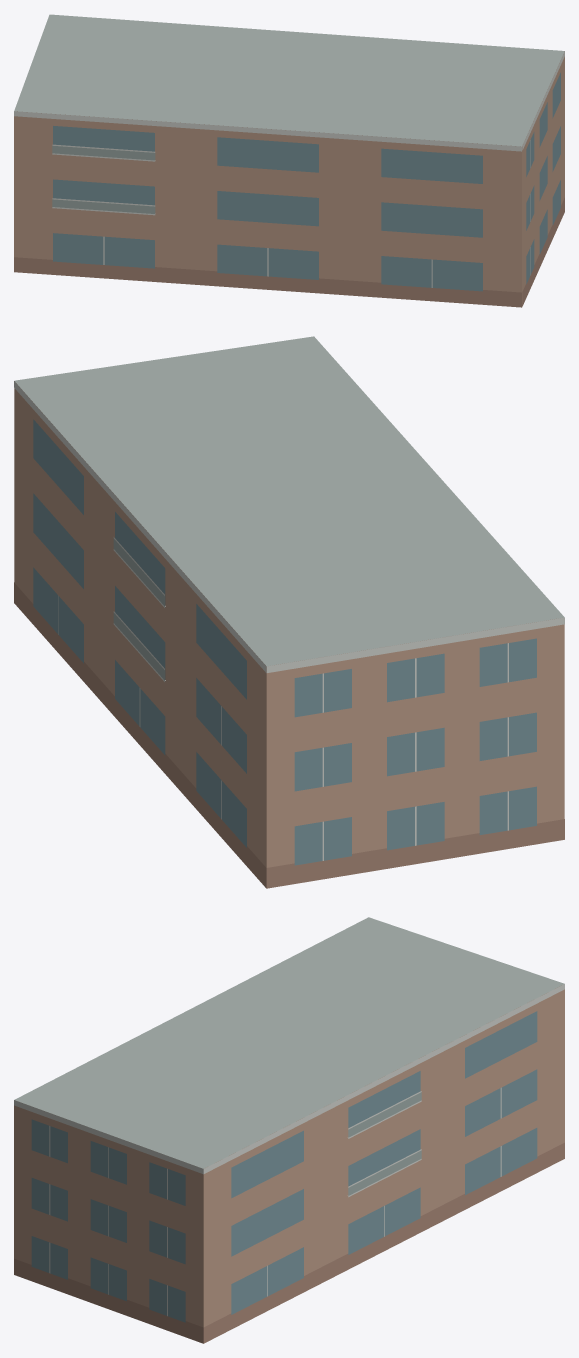
File: survey-upis-32763425.glb
3 views of the same model, one above another, from view 1: azimuth 30°, elevation 25°; view 2: azimuth 150°, elevation 25°; view 3: azimuth 270°, elevation 25° (orthographic). The views are drawn at different scales.
Parts seen in each view (by area): view 1: survey-upis-32763425.tmp; view 2: survey-upis-32763425.tmp; view 3: survey-upis-32763425.tmp.
Boxes of the visible parts, <box> form: survey-upis-32763425.tmp: <box>14,14,564,307</box>; survey-upis-32763425.tmp: <box>14,336,564,888</box>; survey-upis-32763425.tmp: <box>14,917,564,1343</box>.
Bounding box in the file's own units: 24.09 × 7.8 × 22.27.
